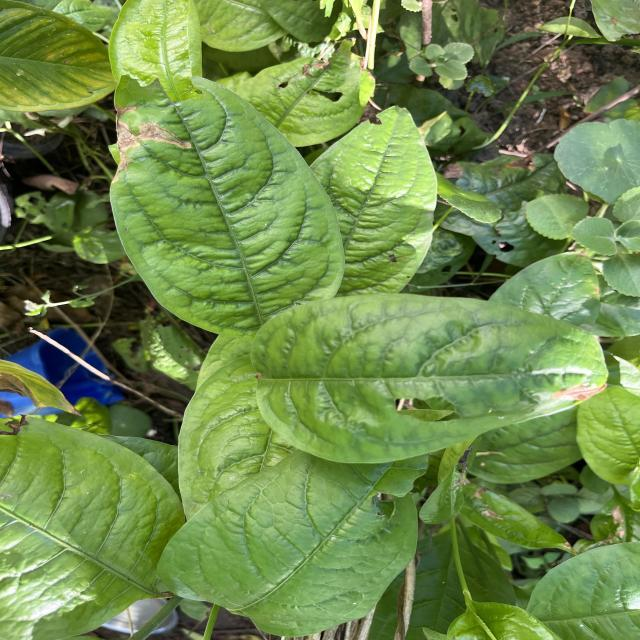Plumbago indica: (246, 290, 618, 470), (106, 72, 352, 338), (148, 458, 432, 640), (316, 106, 442, 302)
